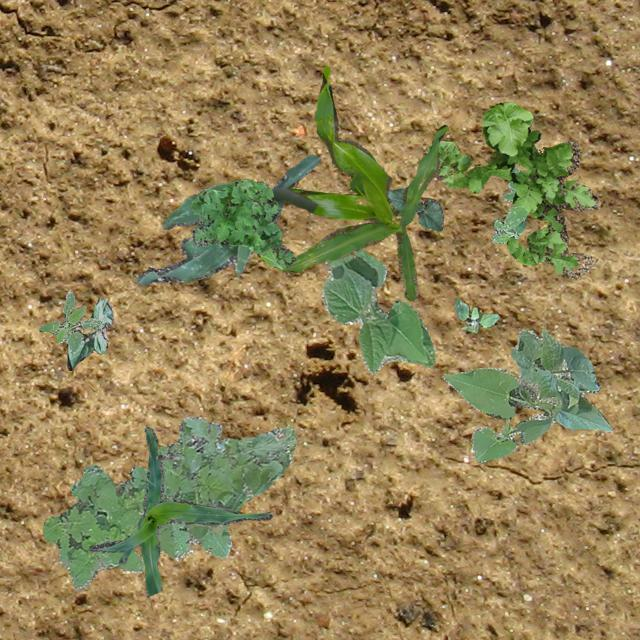crop: (272, 64, 448, 300), (86, 426, 272, 596), (136, 153, 320, 284), (442, 328, 610, 462), (321, 248, 434, 374), (66, 298, 112, 370), (387, 188, 442, 230)
weed: (42, 416, 296, 590), (422, 102, 600, 278), (190, 178, 294, 268), (38, 290, 100, 352), (491, 165, 526, 242), (452, 298, 498, 332), (156, 442, 182, 460)
